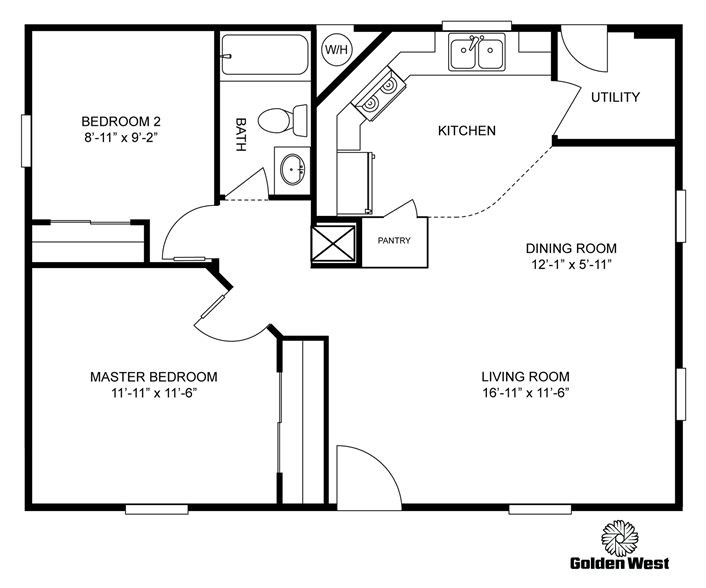door: (332, 437, 405, 508), (192, 285, 270, 347), (160, 193, 217, 261), (563, 21, 619, 83), (219, 166, 274, 204), (555, 82, 579, 136), (382, 194, 421, 221)
room: (316, 11, 692, 275), (331, 277, 684, 512), (24, 265, 326, 510), (31, 35, 316, 276)
wall: (22, 171, 38, 507), (20, 22, 318, 37), (34, 256, 220, 274), (319, 333, 335, 508), (189, 499, 339, 516), (555, 132, 679, 152), (210, 30, 224, 204), (309, 33, 322, 215), (673, 24, 687, 190), (572, 500, 687, 516), (672, 247, 687, 369), (400, 502, 513, 518), (607, 24, 685, 45), (354, 20, 443, 38), (21, 501, 127, 516), (22, 24, 36, 117), (672, 426, 687, 510), (307, 212, 363, 227), (268, 190, 312, 207), (140, 213, 154, 265), (549, 28, 562, 83), (353, 215, 367, 266), (513, 21, 562, 35), (279, 333, 328, 347), (273, 331, 288, 374), (310, 262, 369, 271), (274, 471, 287, 502), (33, 214, 51, 228), (126, 216, 147, 227)
window: (505, 498, 579, 519), (129, 500, 192, 519), (669, 368, 690, 423), (443, 19, 511, 35), (673, 191, 690, 245), (20, 119, 36, 165)
